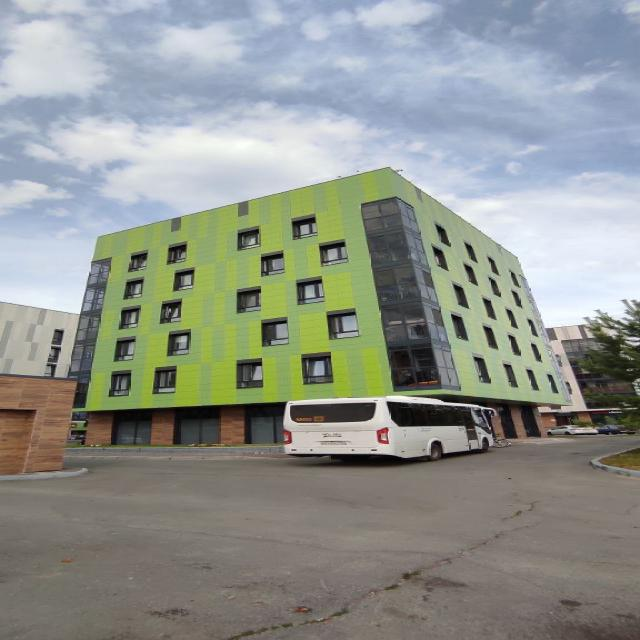Building: (69, 168, 570, 445)
